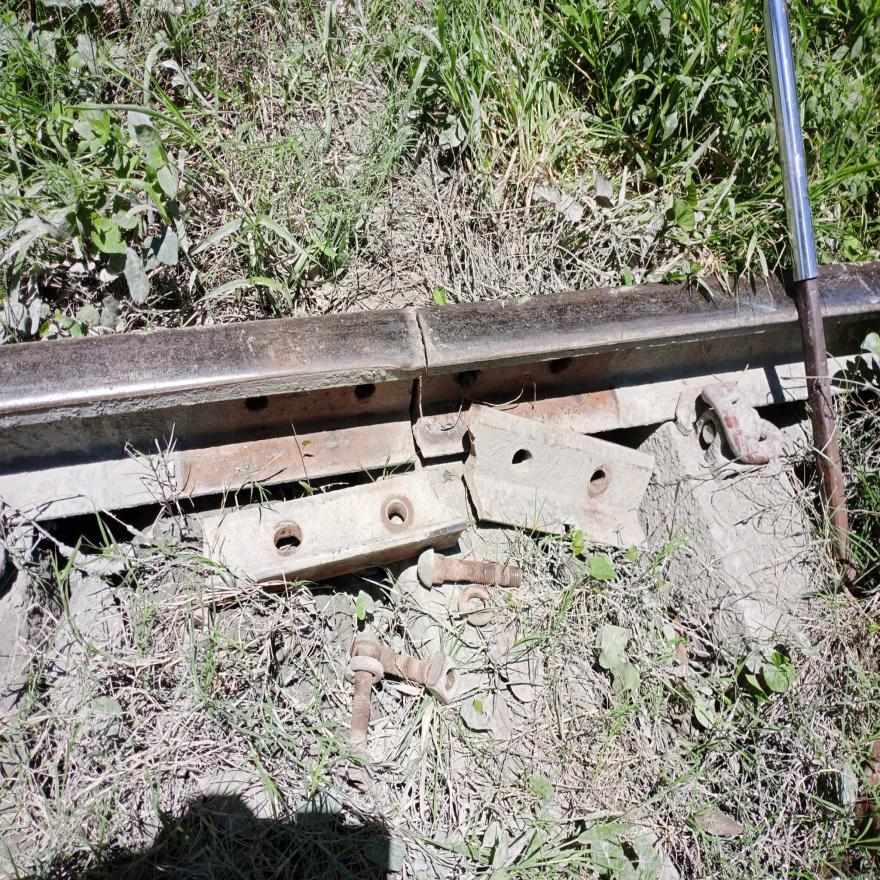railway-gap: (374, 284, 465, 395)
